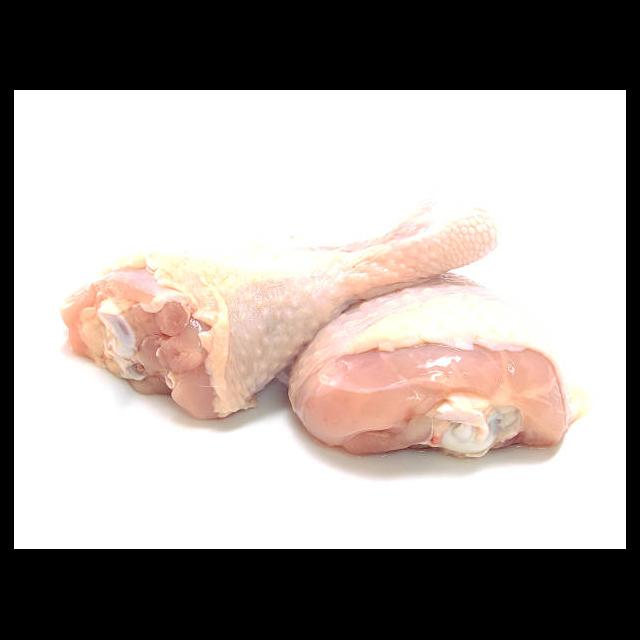chicken: (59, 194, 500, 420), (278, 270, 588, 460)
